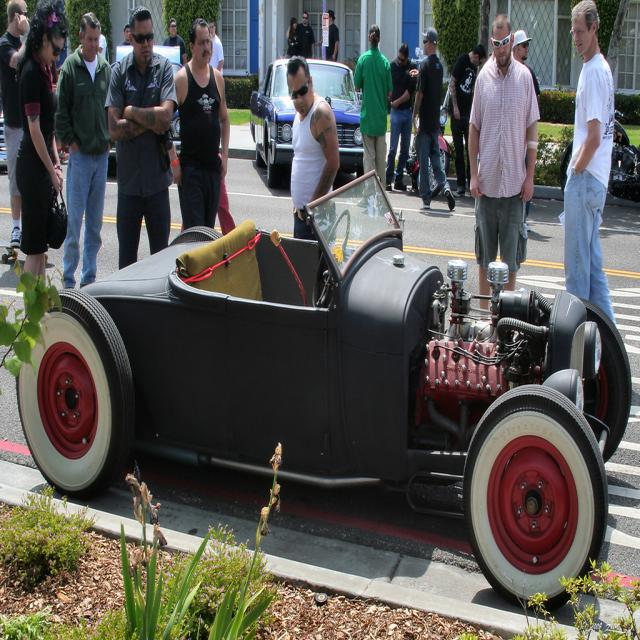car: (23, 164, 610, 593)
